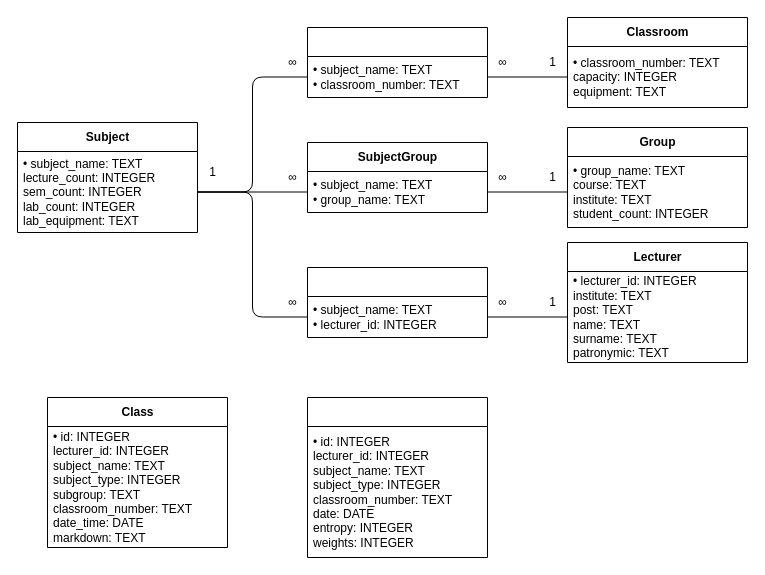
Image size: 765x575. Some labels were removed from this diagram. The shapes that lost their labels are listed below. From the top down, each one's box as (x1, y1, x2, y2) in pixels, then its label:
(306, 26, 488, 98): SubjectClassroom
(306, 266, 488, 338): SubjectLecturer
(306, 396, 488, 558): Slot
